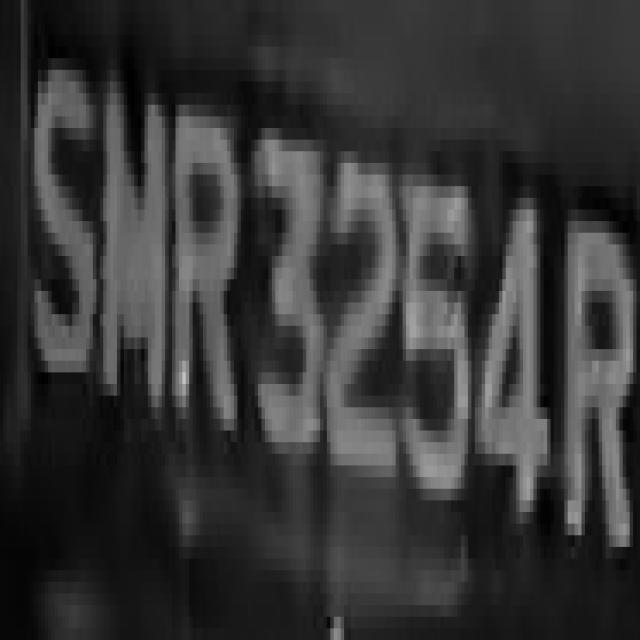2: (330, 128, 406, 524)
3: (255, 82, 327, 466)
4: (468, 140, 550, 547)
5: (396, 128, 471, 512)
M: (96, 70, 172, 465)
R: (554, 174, 633, 558), (179, 82, 237, 442)
S: (21, 12, 96, 384)
